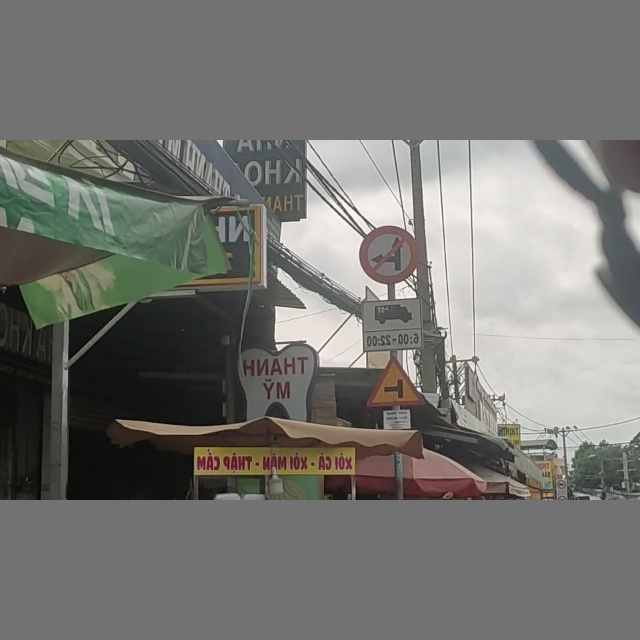P.139: (360, 226, 417, 284)
S.505a*Xe tai: (363, 296, 422, 348)
W.205b: (369, 355, 423, 407)
